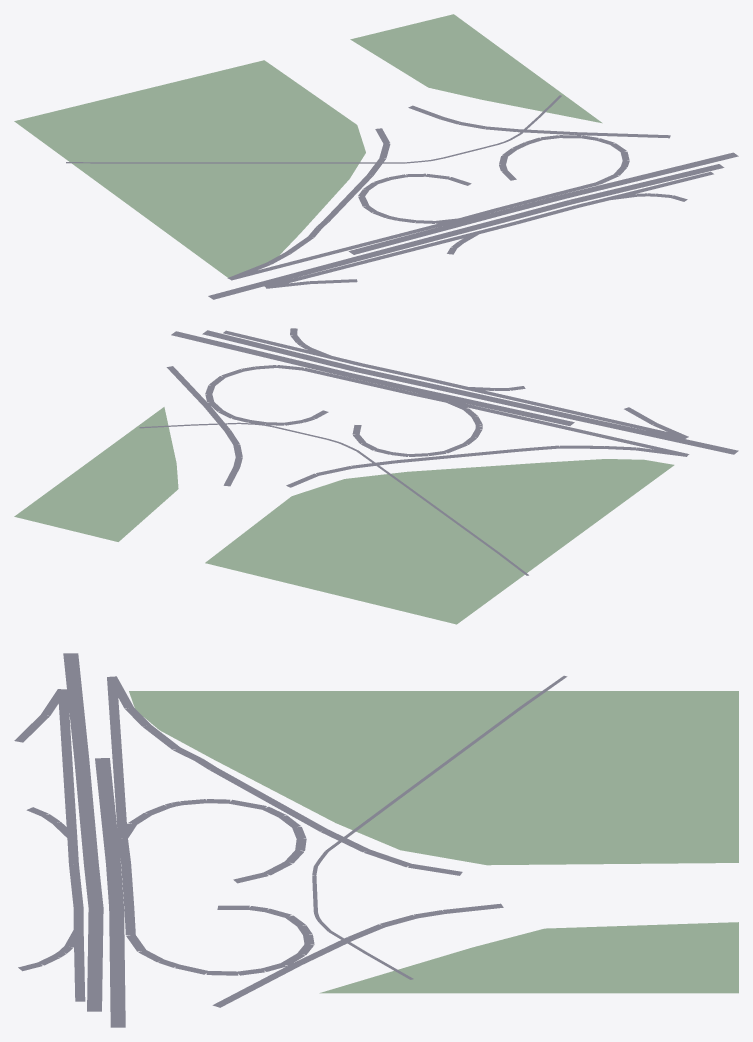
File: 121_128_mid.glb
The picture shows the model from 3 angles, top to bottom: view 1: azimuth 30°, elevation 25°; view 2: azimuth 150°, elevation 25°; view 3: azimuth 270°, elevation 25°; orthographic projection. The views are drawn at different scales.
Bounding box in the file's own units: 617 × 7.79 × 507.
